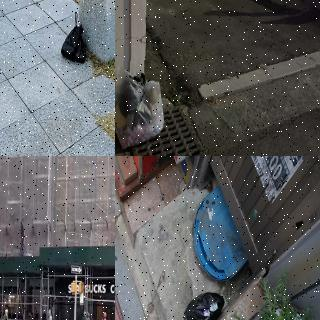Garbage: (115, 61, 168, 147), (58, 11, 90, 64), (180, 288, 227, 320)
